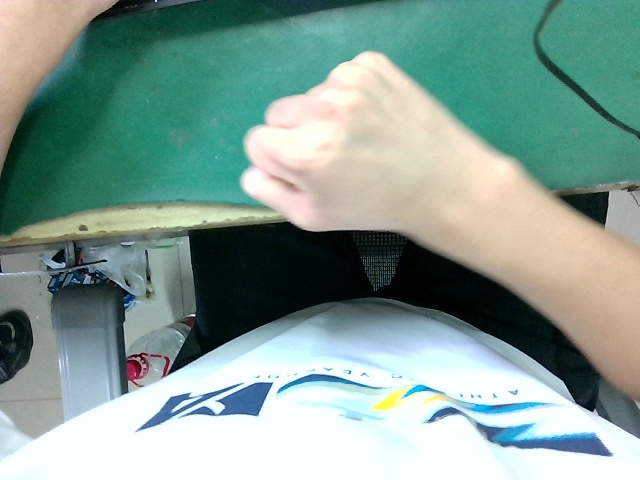stone: (231, 40, 515, 260)
